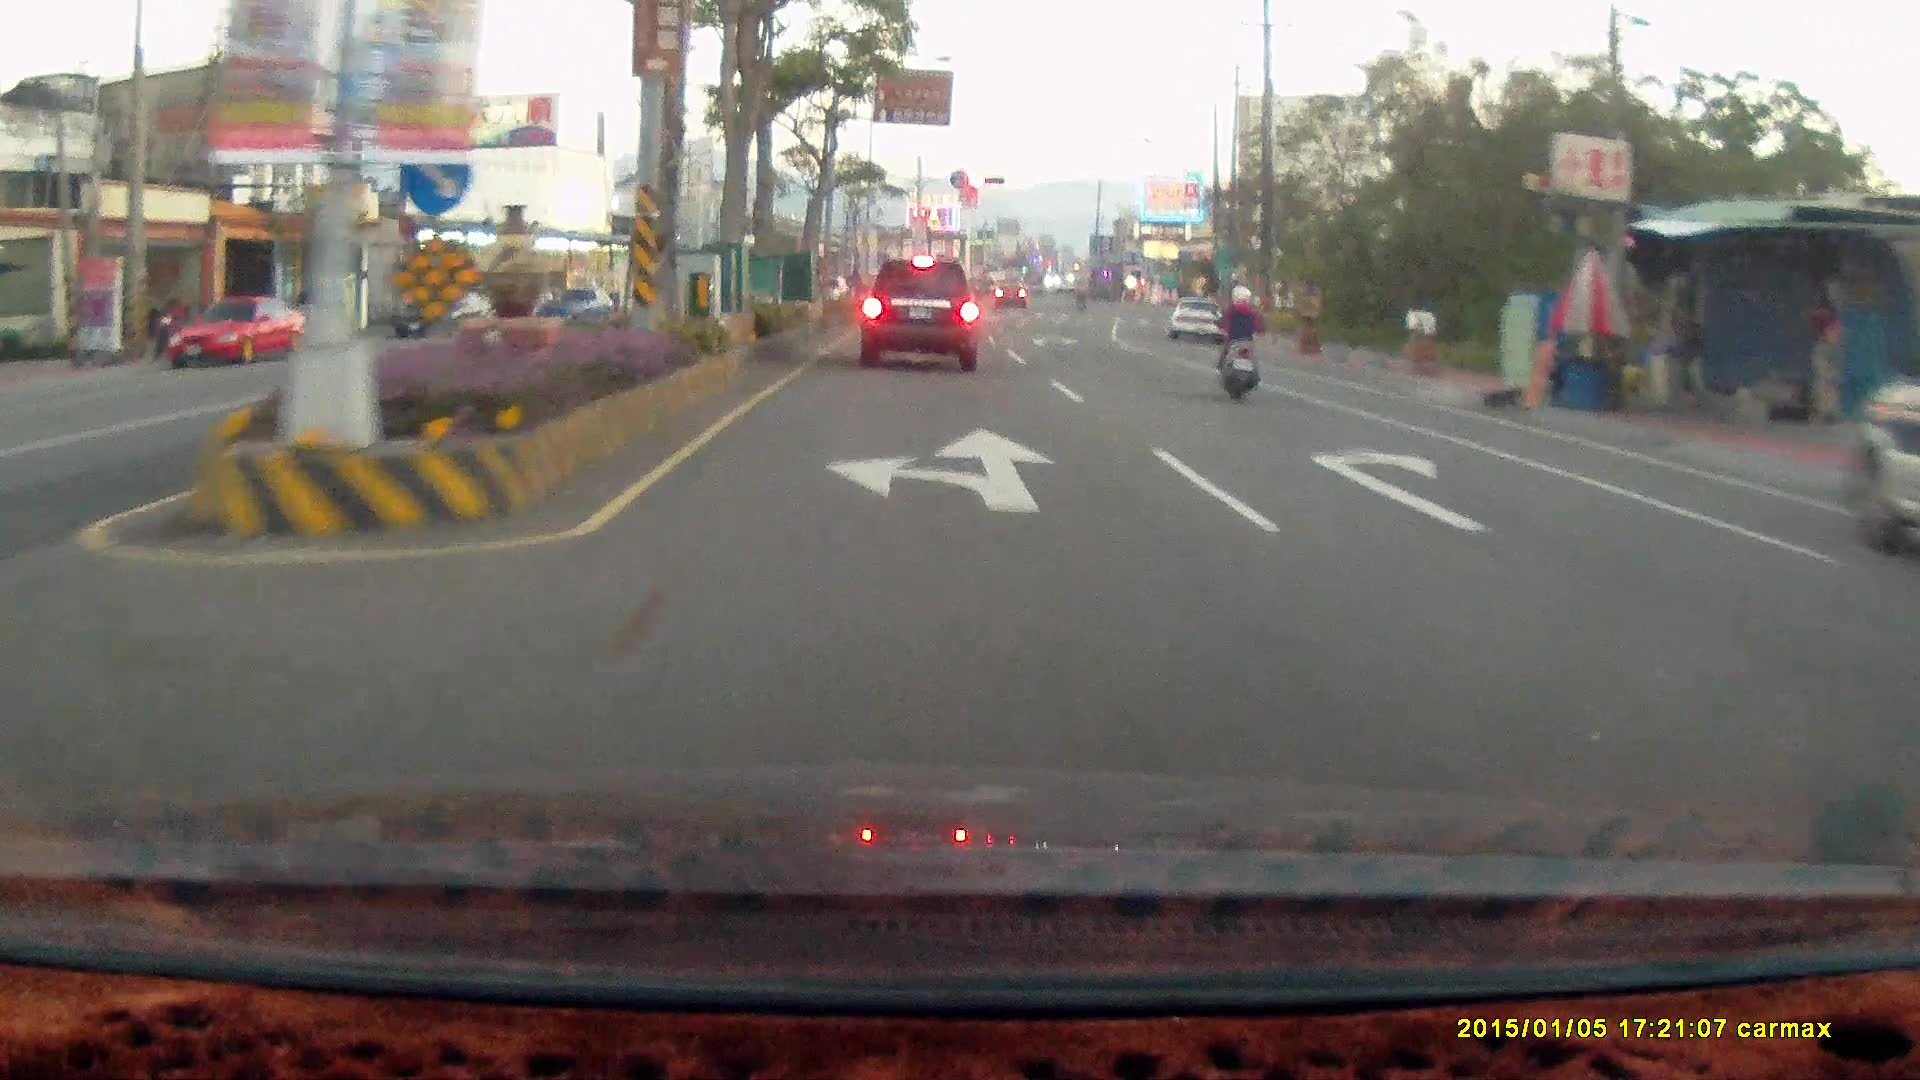rider: (1211, 281, 1264, 403)
vehicle: (1850, 282, 1920, 557), (1850, 281, 1920, 555), (860, 258, 976, 372), (163, 294, 308, 367), (1896, 493, 1920, 836), (1883, 528, 1920, 690), (399, 295, 502, 343), (1168, 296, 1228, 347), (1167, 296, 1226, 346)
